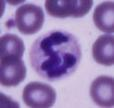N: (30, 30, 83, 81)
